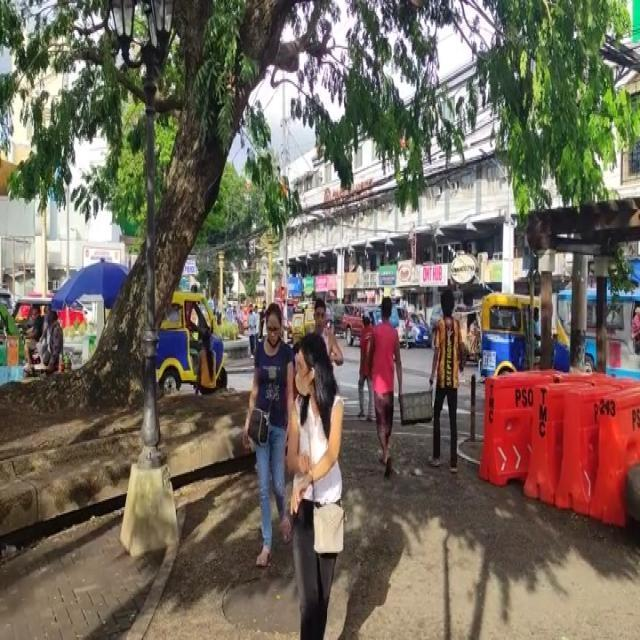hairnet: (265, 313, 281, 349)
